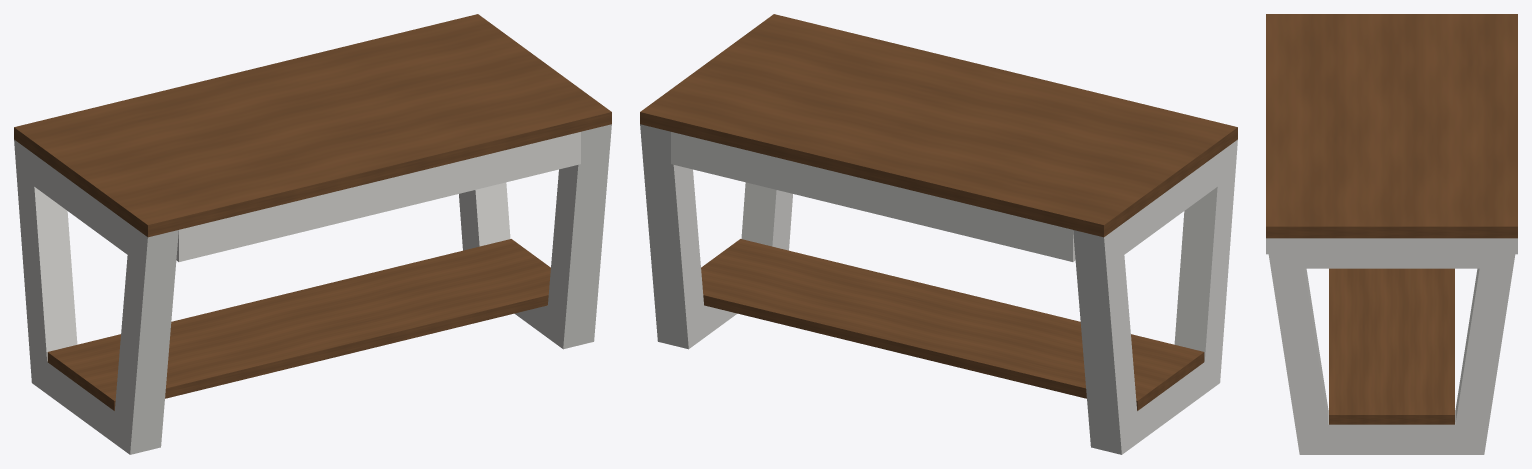
Rendered from mesa-living-nord-estante-nogal-blanco-8cm.glb.
The picture shows the model from 3 angles, left to right: view 1: azimuth 30°, elevation 25°; view 2: azimuth 150°, elevation 25°; view 3: azimuth 270°, elevation 25°; orthographic projection. The views are drawn at different scales.
Parts seen in each view (by area): view 1: Tapa de madera maciza 120 x 60 x 3 cm, Patas inclinadas con cortes a inglete, Estante inferior de madera de 120 cm (proporción aproximada), Larguero longitudinal superior de hierro 8 x 8 mm, Travesaño superior del trapecio, perfil 8 cm, Travesaño inferior del trapecio, perfil 8 cm (×2); view 2: Tapa de madera maciza 120 x 60 x 3 cm, Patas inclinadas con cortes a inglete, Estante inferior de madera de 120 cm (proporción aproximada), Larguero longitudinal superior de hierro 8 x 8 mm, Travesaño superior del trapecio, perfil 8 cm, Travesaño inferior del trapecio, perfil 8 cm; view 3: Tapa de madera maciza 120 x 60 x 3 cm, Estante inferior de madera de 120 cm (proporción aproximada), Patas inclinadas con cortes a inglete, Travesaño superior del trapecio, perfil 8 cm, Travesaño inferior del trapecio, perfil 8 cm.
Part boxes in pixels (x1,y1,x2,y2): Tapa de madera maciza 120 x 60 x 3 cm: (14, 14, 611, 237); Patas inclinadas con cortes a inglete: (14, 124, 611, 454); Estante inferior de madera de 120 cm (proporción aproximada): (47, 239, 550, 410); Larguero longitudinal superior de hierro 8 x 8 mm: (176, 132, 580, 261); Travesaño superior del trapecio, perfil 8 cm: (32, 153, 138, 262); Travesaño inferior del trapecio, perfil 8 cm (×2): (47, 305, 554, 446); Tapa de madera maciza 120 x 60 x 3 cm: (640, 14, 1237, 237); Patas inclinadas con cortes a inglete: (640, 124, 1237, 454); Estante inferior de madera de 120 cm (proporción aproximada): (701, 239, 1204, 410); Larguero longitudinal superior de hierro 8 x 8 mm: (671, 132, 1075, 261); Travesaño superior del trapecio, perfil 8 cm: (1113, 146, 1228, 254); Travesaño inferior del trapecio, perfil 8 cm: (1137, 362, 1204, 441); Tapa de madera maciza 120 x 60 x 3 cm: (1266, 14, 1517, 238); Estante inferior de madera de 120 cm (proporción aproximada): (1329, 268, 1454, 424); Patas inclinadas con cortes a inglete: (1266, 238, 1517, 454); Travesaño superior del trapecio, perfil 8 cm: (1283, 238, 1500, 268); Travesaño inferior del trapecio, perfil 8 cm: (1316, 410, 1467, 454).
Bounding box in the file's own units: 1.2 × 0.6 × 0.6.
Materials: 2 (1 with a texture image).
